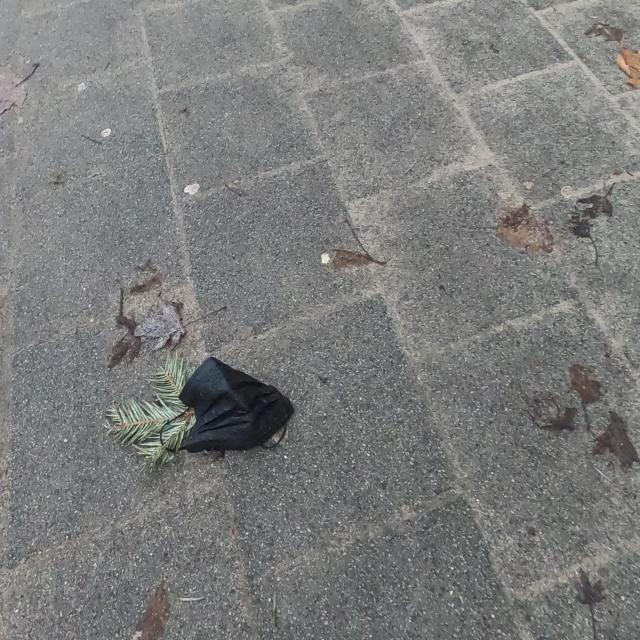Mask: (158, 354, 296, 460)
